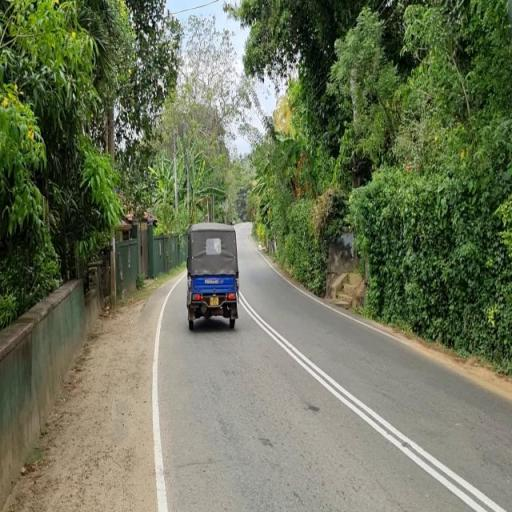double_white_line: (238, 291, 509, 512)
